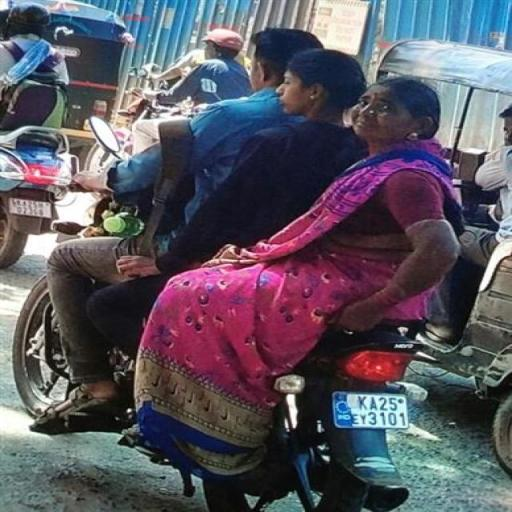tripple riding: (41, 17, 477, 339)
